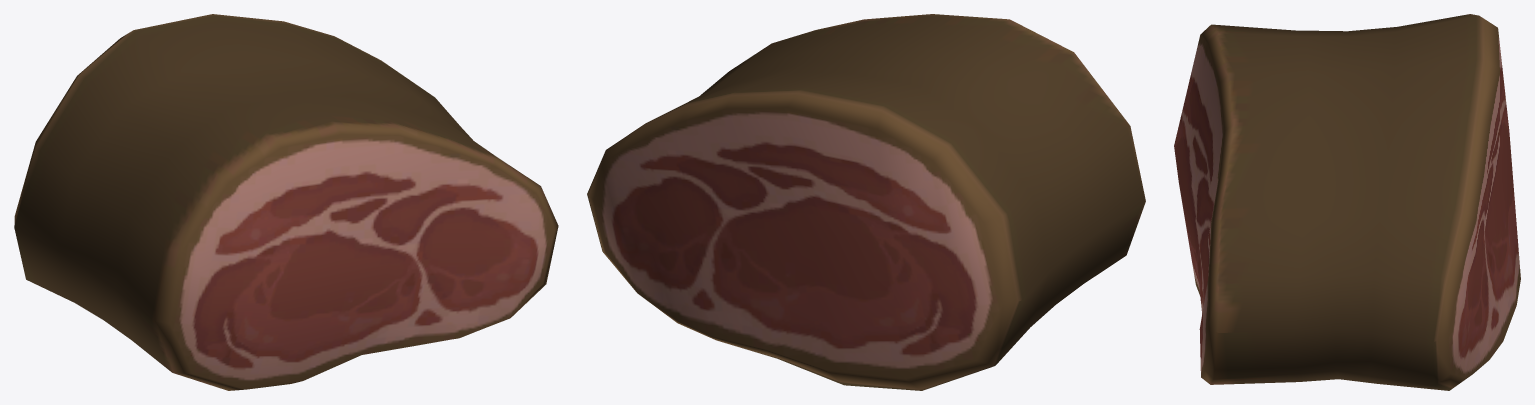
File: Item_Meat_02.glb
3 renders of one model, left to right at view 1: azimuth 30°, elevation 25°; view 2: azimuth 150°, elevation 25°; view 3: azimuth 270°, elevation 25°, orthographic. The views are drawn at different scales.
Visible parts, largest first — view 1: Item_Meat_02; view 2: Item_Meat_02; view 3: Item_Meat_02.
Boxes of the visible parts, x1,y1,x2,y2 form: Item_Meat_02: (14,14,558,390); Item_Meat_02: (587,14,1145,390); Item_Meat_02: (1174,14,1520,390).
Size of the model in its own units: 0.9407 by 0.5519 by 0.6475.
1 material, 1 textured.
